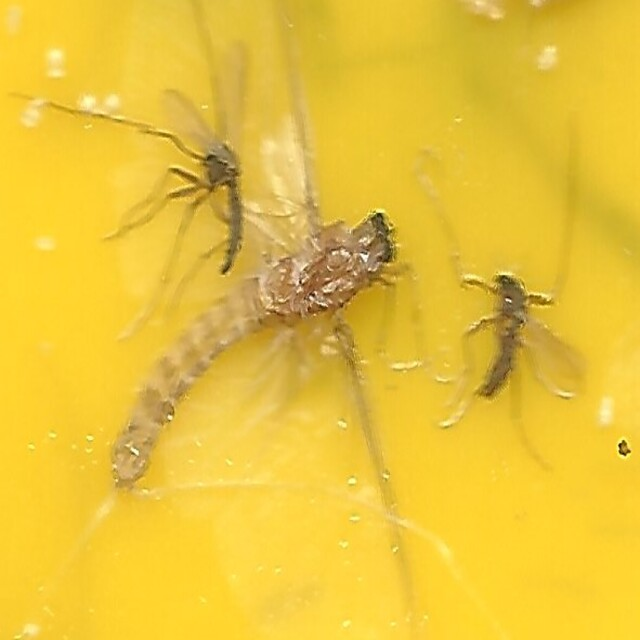Ephemeroptera: (108, 197, 402, 495)
Nematocera: (472, 265, 532, 414), (200, 145, 248, 285)
